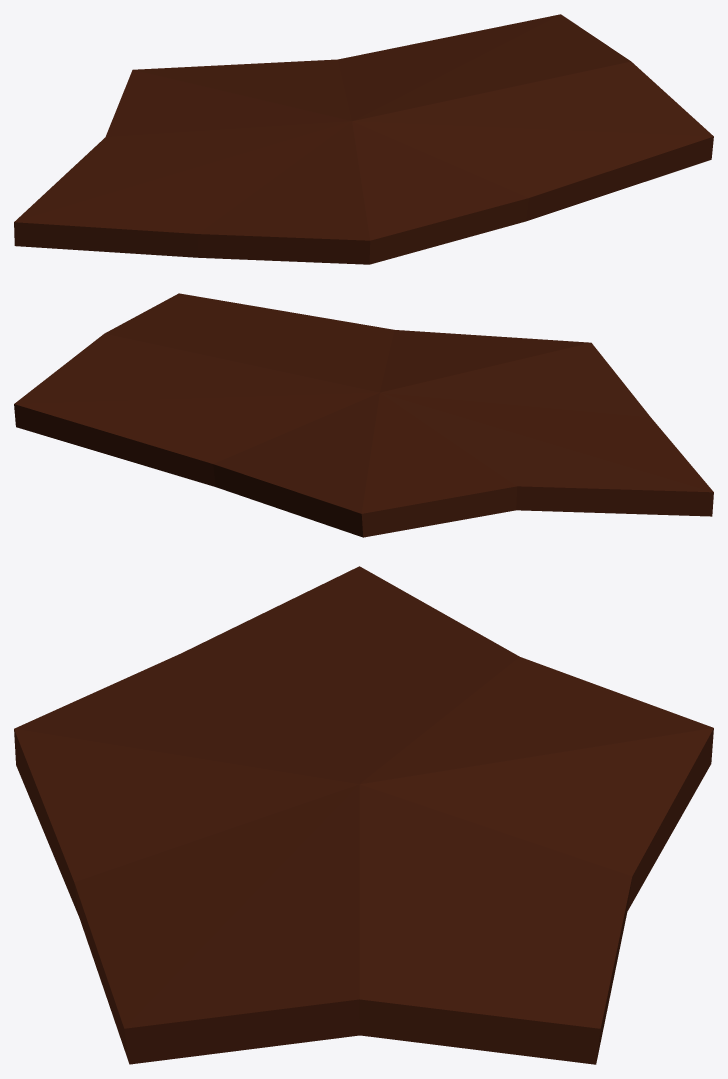
File: leather.obj
3 renders of one model, top to bottom at view 1: azimuth 30°, elevation 25°; view 2: azimuth 150°, elevation 25°; view 3: azimuth 270°, elevation 25°, orthographic. The views are drawn at different scales.
Visible parts, largest first — view 1: Hide; view 2: Hide; view 3: Hide.
Boxes of the visible parts, x1,y1,x2,y2 form: Hide: (14, 14, 713, 264); Hide: (14, 293, 713, 537); Hide: (14, 566, 713, 1064).
Bounding box in the file's own units: 2.14 × 0.1651 × 1.39.
